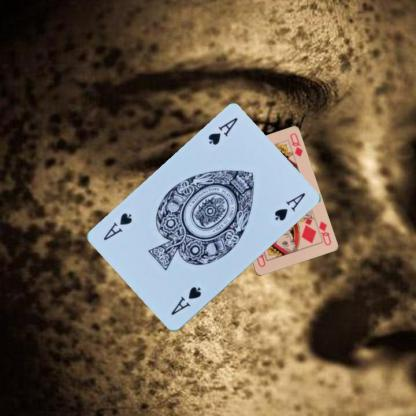As: (168, 284, 203, 317), (205, 115, 239, 147)
Qd: (312, 218, 332, 247)
